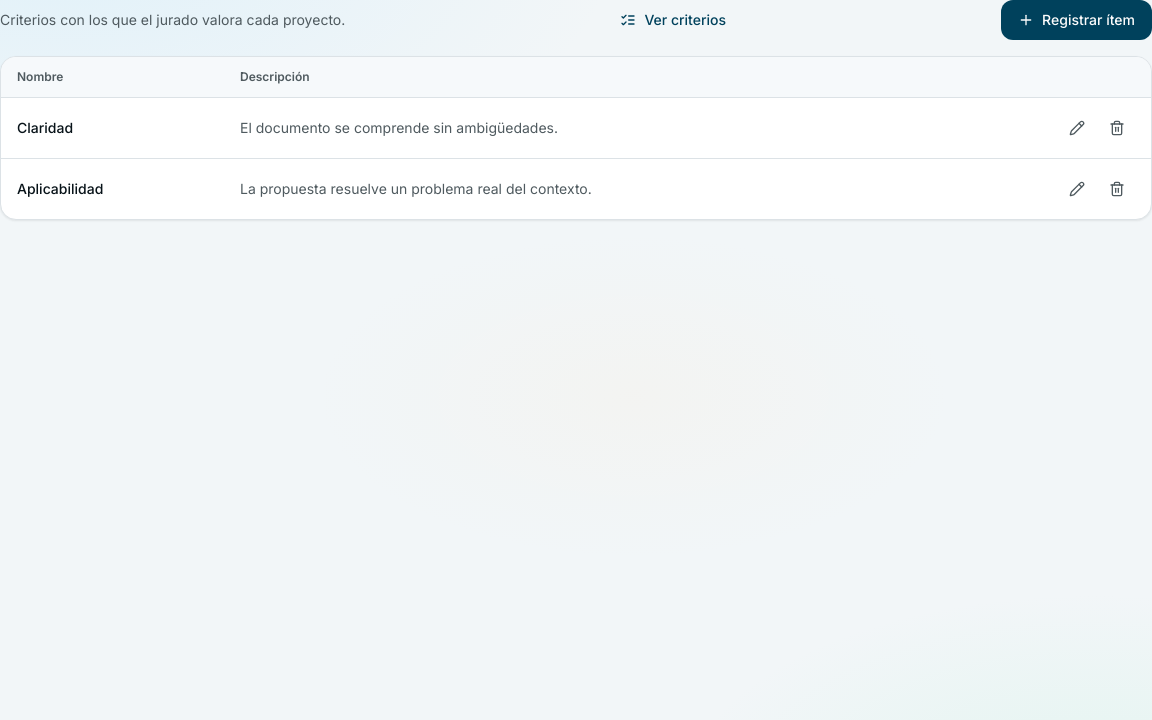
Test: ItemsCualitativosJuradoView › abre el panel de registro sobre la lista y lo cierra sin perderla
Click the button "Registrar ítem" at (1077, 20), box [1001,0,1151,40]
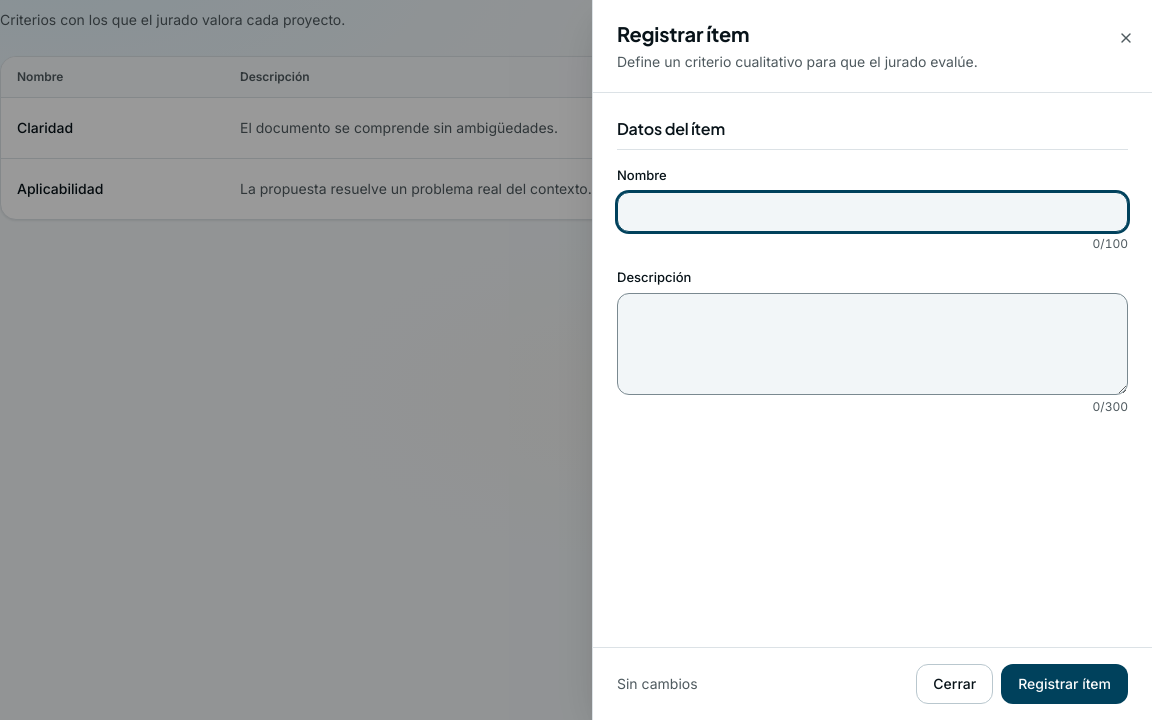
Expected: the field labelled "Nombre" is shown, [617,192,1128,232]
Expected: the dialog is shown, [592,0,1151,719]
Click the button "Cerrar" at (955, 684), box [916,664,993,704]
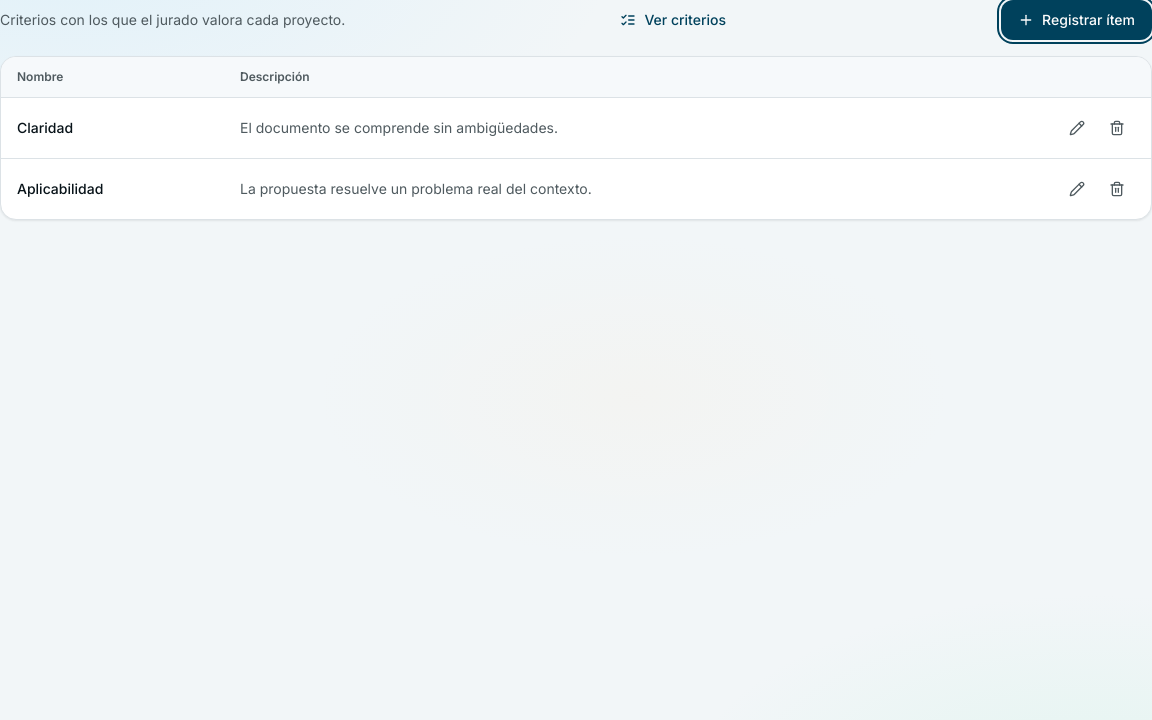
Expected: the table named "Ítems cualitativos del jurado" is shown, [1,57,1151,219]
Expected: the dialog is gone
